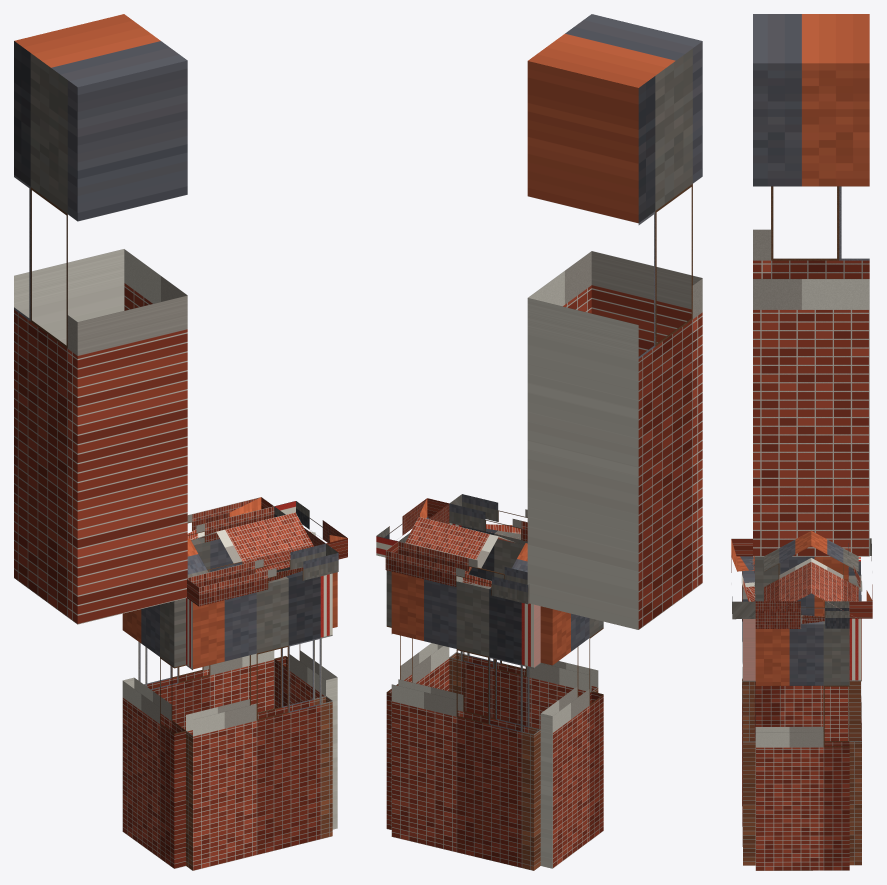
The picture shows the model from 3 angles, left to right: view 1: azimuth 30°, elevation 25°; view 2: azimuth 150°, elevation 25°; view 3: azimuth 270°, elevation 25°; orthographic projection. The views are drawn at different scales.
Visible parts, largest first — view 1: 1107169162__chimney_0_xb, 1107169162__wall_2_xb, 1107169162__wall_3_xb, 1107169162__wall_0_xb, 1107169162__cornice_2, 1107169162_roof_-1_xb, 1107169162__wall_1_xb, 1107169162__cornice_0, 1107169162__cornice_1; view 2: 1107169162__chimney_0_xb, 1107169162__wall_0_xb, 1107169162__wall_3_xb, 1107169162__wall_2_xb, 1107169162__cornice_0, 1107169162__wall_1_xb, 1107169162_roof_1_xb, 1107169162__cornice_2, 1107169162__cornice_1; view 3: 1107169162__chimney_0_xb, 1107169162__wall_1_xb, 1107169162__wall_3_xb, 1107169162__wall_2_xb, 1107169162__wall_0_xb, 1107169162__cornice_1, 1107169162_roof_-1_xb, 1107169162_roof_1_xb, 1107169162__cornice_2, 1107169162__cornice_0.
Boxes of the visible parts, x1,y1,x2,y2 form: 1107169162__chimney_0_xb: (14,14,187,624); 1107169162__wall_2_xb: (186,571,332,870); 1107169162__wall_3_xb: (122,598,185,868); 1107169162__wall_0_xb: (138,536,274,730); 1107169162__cornice_2: (187,543,338,606); 1107169162_roof_-1_xb: (187,512,313,577); 1107169162__wall_1_xb: (274,567,337,829); 1107169162__cornice_0: (187,497,274,542); 1107169162__cornice_1: (274,501,347,559); 1107169162__chimney_0_xb: (527,14,702,629); 1107169162__wall_0_xb: (391,571,540,870); 1107169162__wall_3_xb: (540,606,603,868); 1107169162__wall_2_xb: (449,523,598,729); 1107169162__cornice_0: (385,541,529,604); 1107169162__wall_1_xb: (386,523,449,829); 1107169162_roof_1_xb: (405,517,527,574); 1107169162__cornice_2: (449,494,527,541); 1107169162__cornice_1: (376,498,449,557); 1107169162__chimney_0_xb: (753,14,869,556); 1107169162__wall_1_xb: (755,621,849,870); 1107169162__wall_3_xb: (755,556,848,741); 1107169162__wall_2_xb: (742,556,755,865); 1107169162__wall_0_xb: (848,556,861,865); 1107169162__cornice_1: (755,601,849,628); 1107169162_roof_-1_xb: (764,531,811,605); 1107169162_roof_1_xb: (811,531,858,618); 1107169162__cornice_2: (731,538,755,619); 1107169162__cornice_0: (848,538,872,618).
Bounding box in the file's own units: 0.3704 × 1.05 × 0.182.
1 material, 1 textured.
